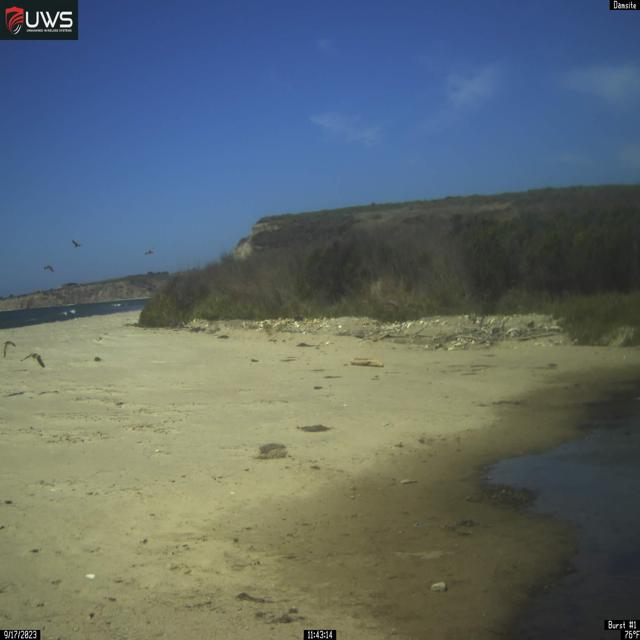bird: (20, 352, 45, 368)
